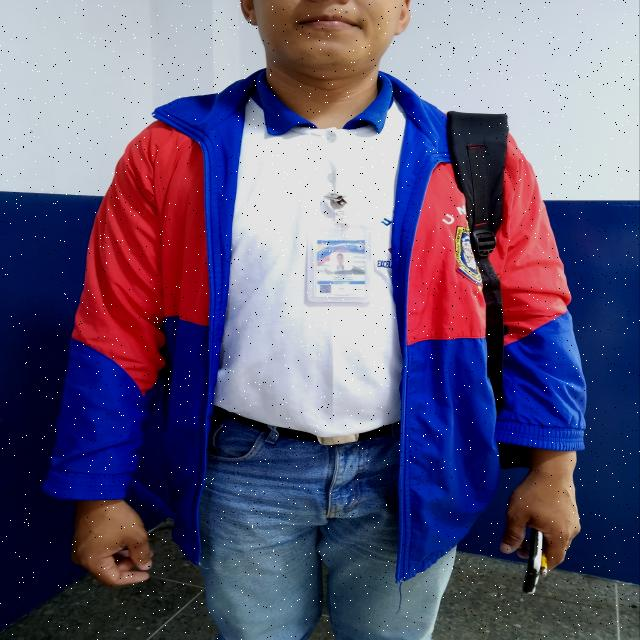carnet: (315, 240, 367, 298)
chaqueta_unefa: (41, 68, 588, 585)
